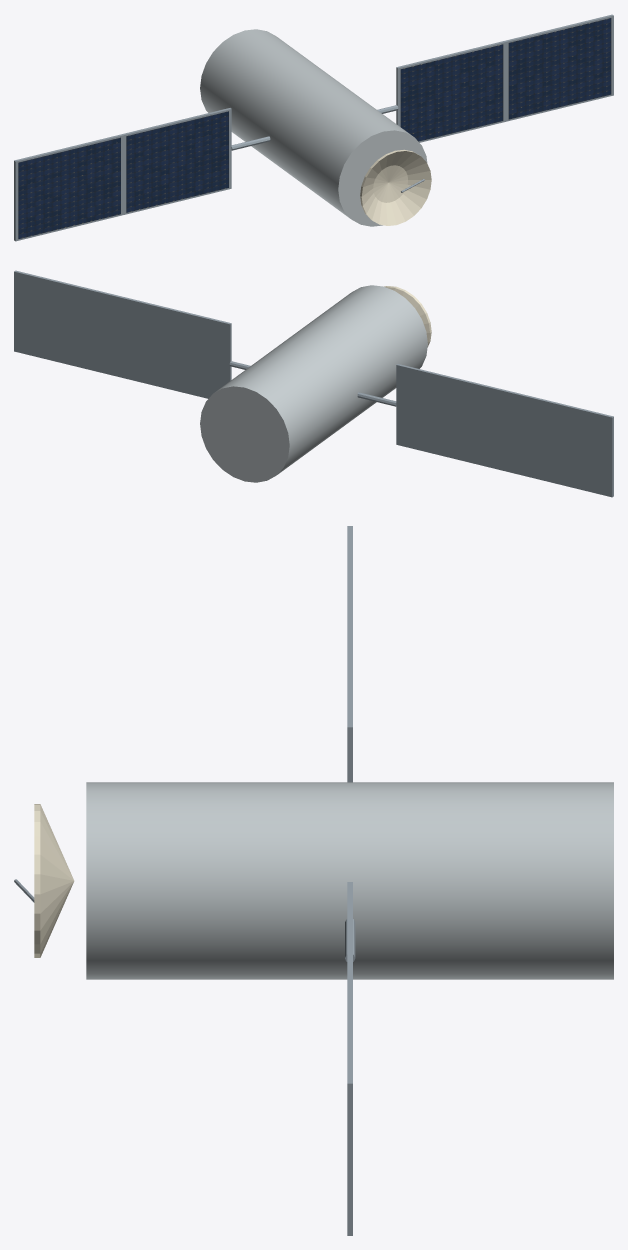
The model's file is ref-canyon-block-2-6317.glb.
3 views of the same model, one above another, from view 1: azimuth 30°, elevation 25°; view 2: azimuth 150°, elevation 25°; view 3: azimuth 270°, elevation 25° (orthographic). The views are drawn at different scales.
Parts seen in each view (by area): view 1: Photovoltaic laminates (×4), Spacecraft body, Array frame (×4), Reflector dish; view 2: Array frame (×4), Spacecraft body, Reflector dish; view 3: Spacecraft body, Reflector dish, Array frame (×2).
Part boxes in pixels (<box>): Photovoltaic laminates (×4): <box>18,18,611,238</box>; Spacecraft body: <box>200,29,427,226</box>; Array frame (×4): <box>14,14,613,241</box>; Reflector dish: <box>360,149,431,225</box>; Array frame (×4): <box>14,270,613,497</box>; Spacecraft body: <box>200,285,427,482</box>; Reflector dish: <box>384,286,431,346</box>; Spacecraft body: <box>86,782,613,979</box>; Reflector dish: <box>34,804,74,957</box>; Array frame (×2): <box>347,626,352,1235</box>.
Bounding box in the file's own units: 10 × 1.5 × 4.55.
Materials: 4 (1 with a texture image).
